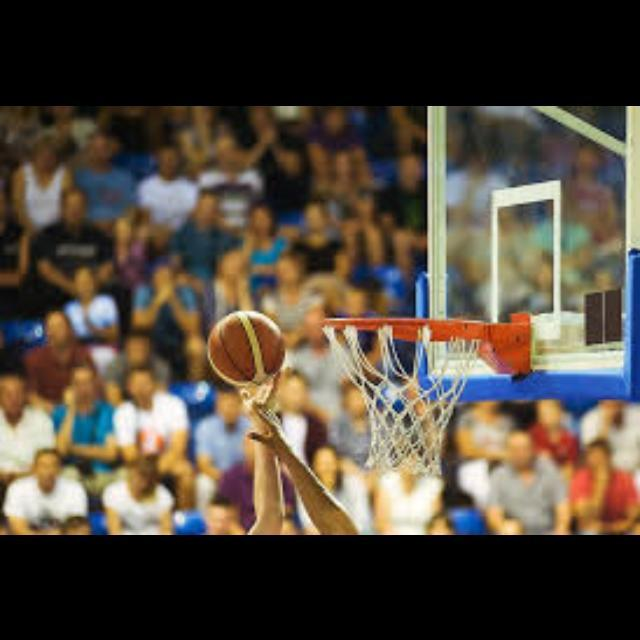basketball: (208, 312, 282, 382)
rim: (324, 318, 484, 470)
